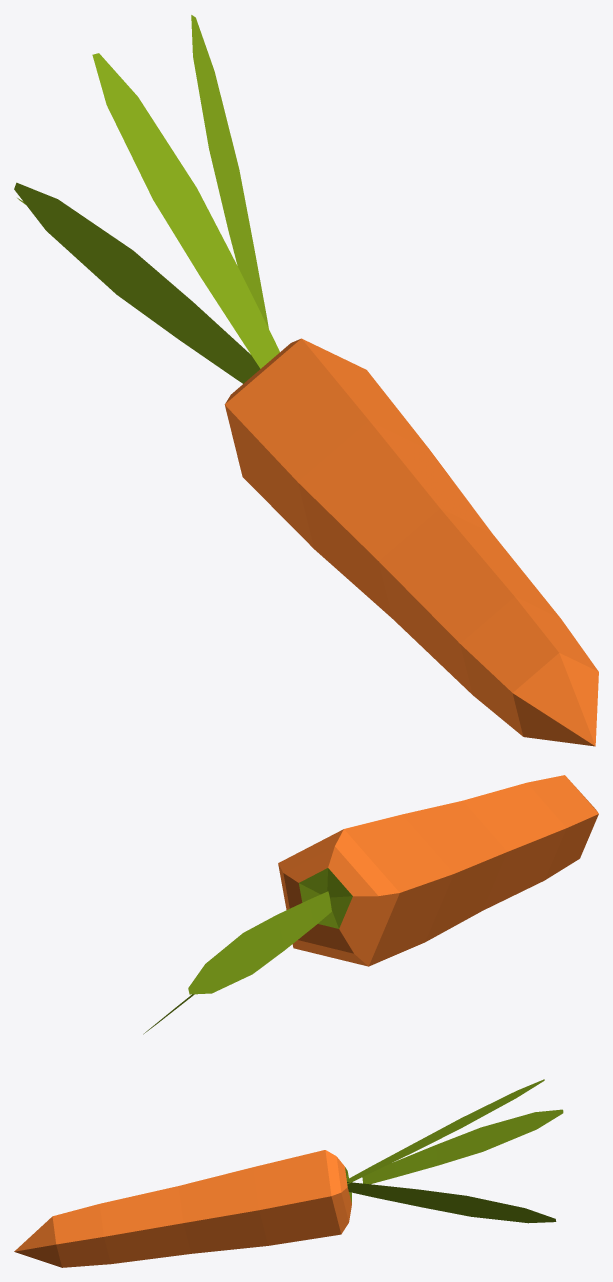
Rendered from Carrot-edited.glb.
3 views of the same model, one above another, from view 1: azimuth 30°, elevation 25°; view 2: azimuth 150°, elevation 25°; view 3: azimuth 270°, elevation 25° (orthographic). The views are drawn at different scales.
Visible parts, largest first — view 1: Carrot; view 2: Carrot; view 3: Carrot.
Boxes of the visible parts, x1,y1,x2,y2 form: Carrot: (14,15,598,746); Carrot: (143,775,598,1034); Carrot: (14,1079,563,1267).
Bounding box in the file's own units: 0.421 × 0.5787 × 1.69.
1 material, 1 textured.
